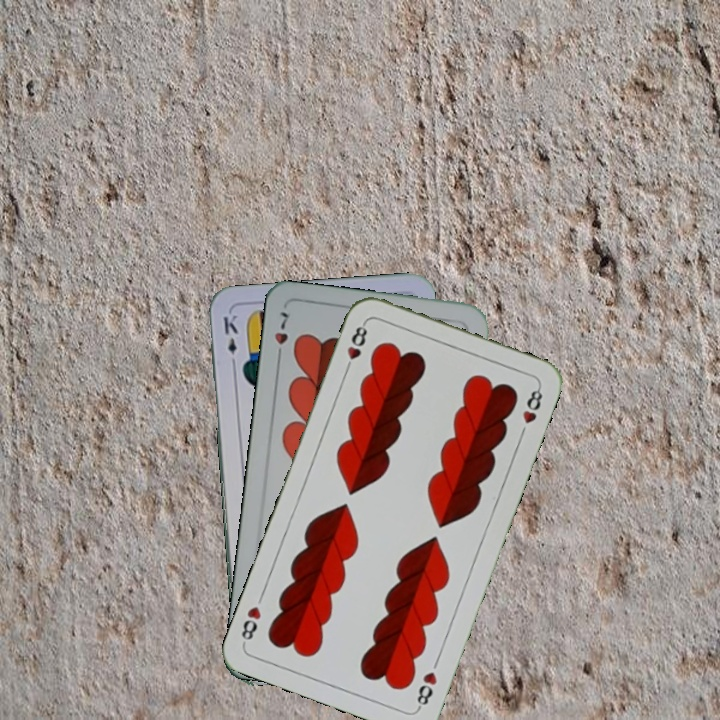EK: (219, 310, 240, 370)
H7: (270, 307, 291, 365)
H8: (341, 318, 370, 375), (412, 667, 440, 712)
